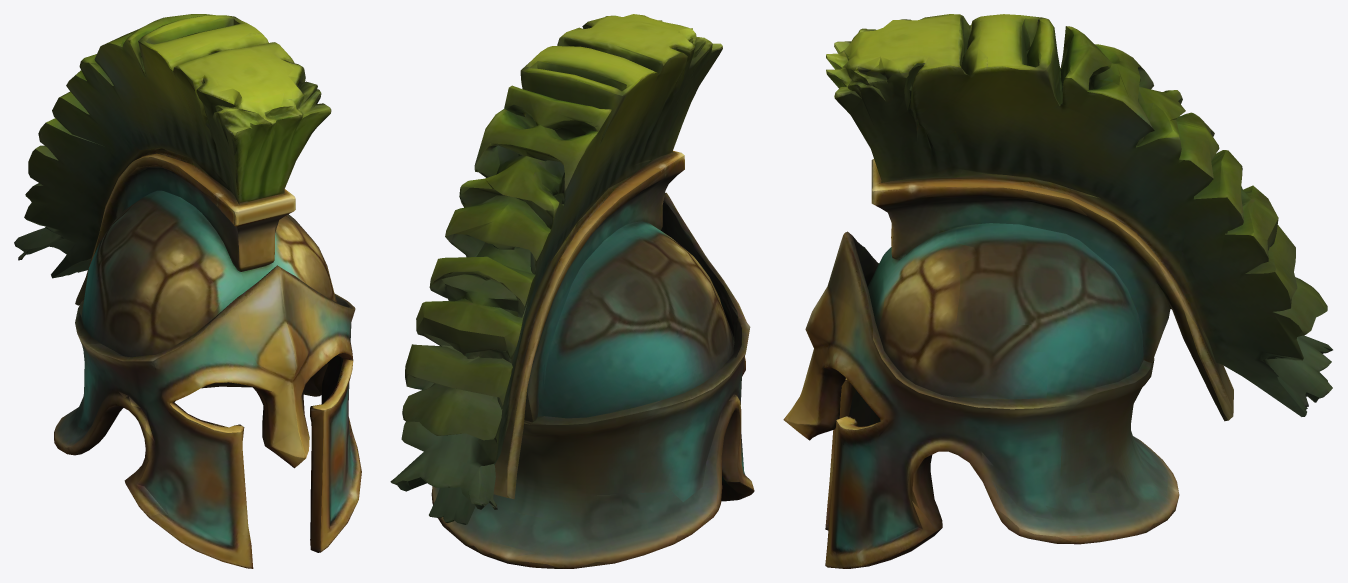
File: bog_warden_helm.glb
The picture shows the model from 3 angles, left to right: view 1: azimuth 30°, elevation 25°; view 2: azimuth 150°, elevation 25°; view 3: azimuth 270°, elevation 25°; orthographic projection. The views are drawn at different scales.
Visible parts, largest first — view 1: world; view 2: world; view 3: world.
Boxes of the visible parts, left/top/right/bottom form: world: left=14, top=14, right=361, bottom=568; world: left=390, top=14, right=754, bottom=568; world: left=783, top=14, right=1332, bottom=568.
Bounding box in the file's own units: 0.27 × 0.474 × 0.4584.
1 material, 1 textured.
